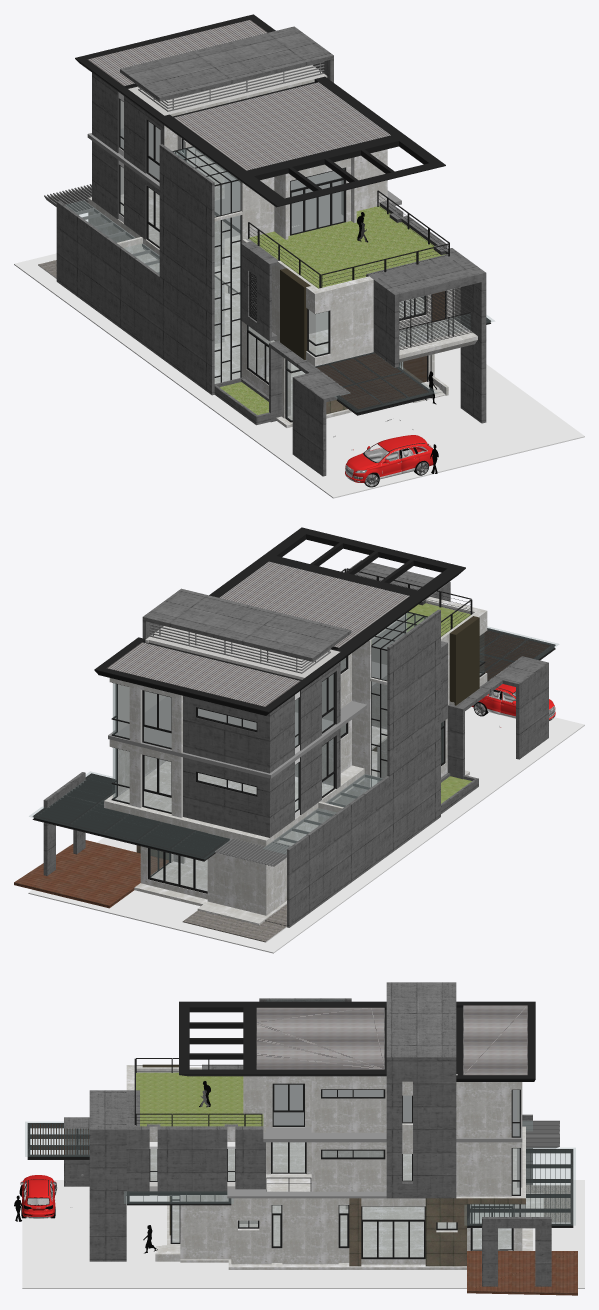
3 renders of one model, top to bottom at view 1: azimuth 30°, elevation 25°; view 2: azimuth 150°, elevation 25°; view 3: azimuth 270°, elevation 25°, orthographic. The views are drawn at different scales.
Visible parts, largest first — view 1: G-__581610, G-Stage, G-__586650, G-__580620, G-Top, Sketchup, G-__581601, G-__581637, G-__581655, G-__580638, G-__581646, G-__584328 (+24 smaller); view 2: G-__581610, G-__586650, G-Stage, G-__580710, G-__581664, G-__581592, G-__580638, G-Top, G-__582447, G-__581583, G-__583617, G-__581637 (+24 smaller); view 3: G-Stage, G-Top, G-__586650, G-__580710, G-__581673, G-__586758, G-__580620, G-__580638, Sketchup, G-__581601, G-__581655, G-__582447 (+34 smaller).
Boxes of the visible parts, left/top/right/bottom form: G-__581610: left=56, top=140, right=224, bottom=395; G-Stage: left=14, top=253, right=584, bottom=498; G-__586650: left=156, top=76, right=445, bottom=206; G-__580620: left=373, top=257, right=486, bottom=423; G-Top: left=120, top=26, right=333, bottom=101; Sketchup: left=249, top=206, right=445, bottom=288; G-__581601: left=164, top=76, right=387, bottom=239; G-__581637: left=269, top=340, right=350, bottom=476; G-__581655: left=241, top=225, right=424, bottom=366; G-__580638: left=75, top=14, right=275, bottom=118; G-__581646: left=117, top=160, right=460, bottom=359; G-__584328: left=87, top=122, right=401, bottom=241; G-__581610: left=287, top=609, right=440, bottom=927; G-__586650: left=209, top=527, right=465, bottom=654; G-Stage: left=28, top=707, right=584, bottom=953; G-__580710: left=104, top=701, right=454, bottom=915; G-__581664: left=183, top=728, right=340, bottom=837; G-__581592: left=183, top=661, right=340, bottom=773; G-__580638: left=94, top=637, right=348, bottom=712; G-Top: left=142, top=588, right=351, bottom=661; G-__582447: left=29, top=771, right=230, bottom=859; G-__581583: left=115, top=616, right=404, bottom=753; G-__583617: left=14, top=840, right=168, bottom=908; G-__581637: left=447, top=656, right=548, bottom=779; G-Stage: left=22, top=1180, right=584, bottom=1288; G-Top: left=386, top=982, right=456, bottom=1198; G-__586650: left=179, top=1001, right=386, bottom=1074; G-__580710: left=180, top=1126, right=525, bottom=1266; G-__581673: left=126, top=1090, right=265, bottom=1195; G-__586758: left=167, top=1193, right=543, bottom=1269; G-__580620: left=89, top=1090, right=126, bottom=1261; G-__580638: left=456, top=1001, right=535, bottom=1079; Sketchup: left=136, top=1072, right=263, bottom=1126; G-__581601: left=243, top=1076, right=522, bottom=1138; G-__581655: left=126, top=1065, right=522, bottom=1196; G-__582447: left=464, top=1148, right=575, bottom=1225.
Size of the model in its own units: 15.38 by 13.2 by 31.96.
59 materials, 9 textured.
